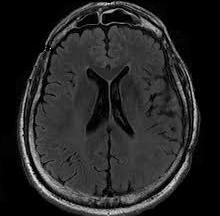Normal_Brain: (1, 1, 220, 216)
